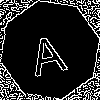A: (25, 25, 69, 77)
